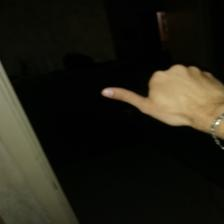five: (95, 63, 223, 138)
